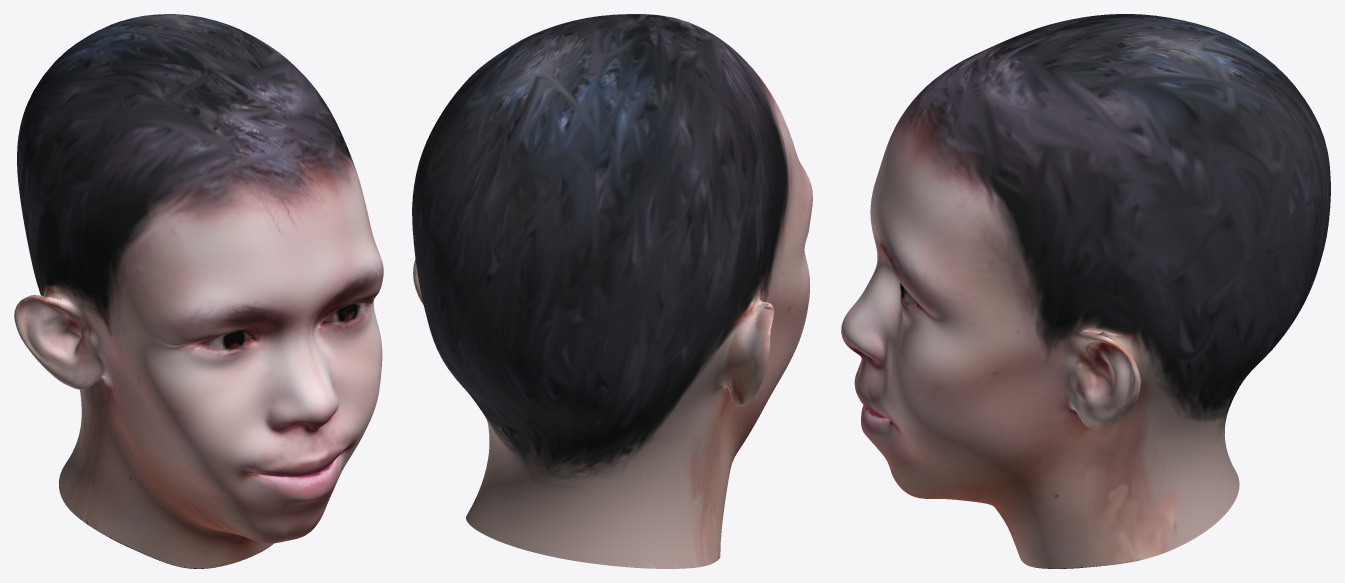
Rendered from meeee.gltf.
3 views of the same model, side by side, from view 1: azimuth 30°, elevation 25°; view 2: azimuth 150°, elevation 25°; view 3: azimuth 270°, elevation 25° (orthographic). The views are drawn at different scales.
Parts seen in each view (by area): view 1: FaceBuilderHead; view 2: FaceBuilderHead; view 3: FaceBuilderHead.
Boxes of the visible parts, x1,y1,x2,y2 form: FaceBuilderHead: (14, 14, 383, 568); FaceBuilderHead: (412, 14, 812, 568); FaceBuilderHead: (841, 14, 1330, 568).
Size of the model in its own units: 1.54 by 2.21 by 1.89.
1 material, 1 textured.
